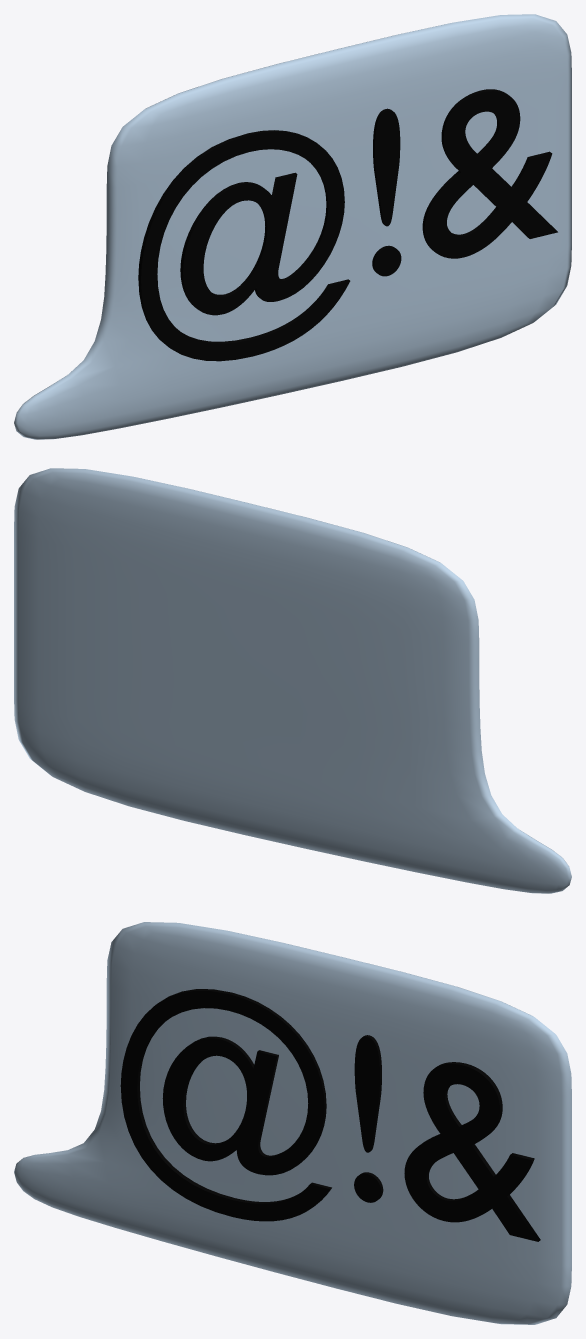
The model's file is foshboland.fbx.
The picture shows the model from 3 angles, top to bottom: view 1: azimuth 30°, elevation 25°; view 2: azimuth 150°, elevation 25°; view 3: azimuth 330°, elevation 25°; orthographic projection.
Visible parts, largest first — view 1: Cube, Text; view 2: Cube; view 3: Cube, Text.
Part boxes in pixels (bbox=[...]): Cube: bbox=[14, 14, 571, 439]; Text: bbox=[138, 89, 557, 361]; Cube: bbox=[14, 468, 571, 893]; Cube: bbox=[14, 922, 571, 1324]; Text: bbox=[120, 989, 540, 1241].
Size of the model in its own units: 186 by 106 by 10.51.
